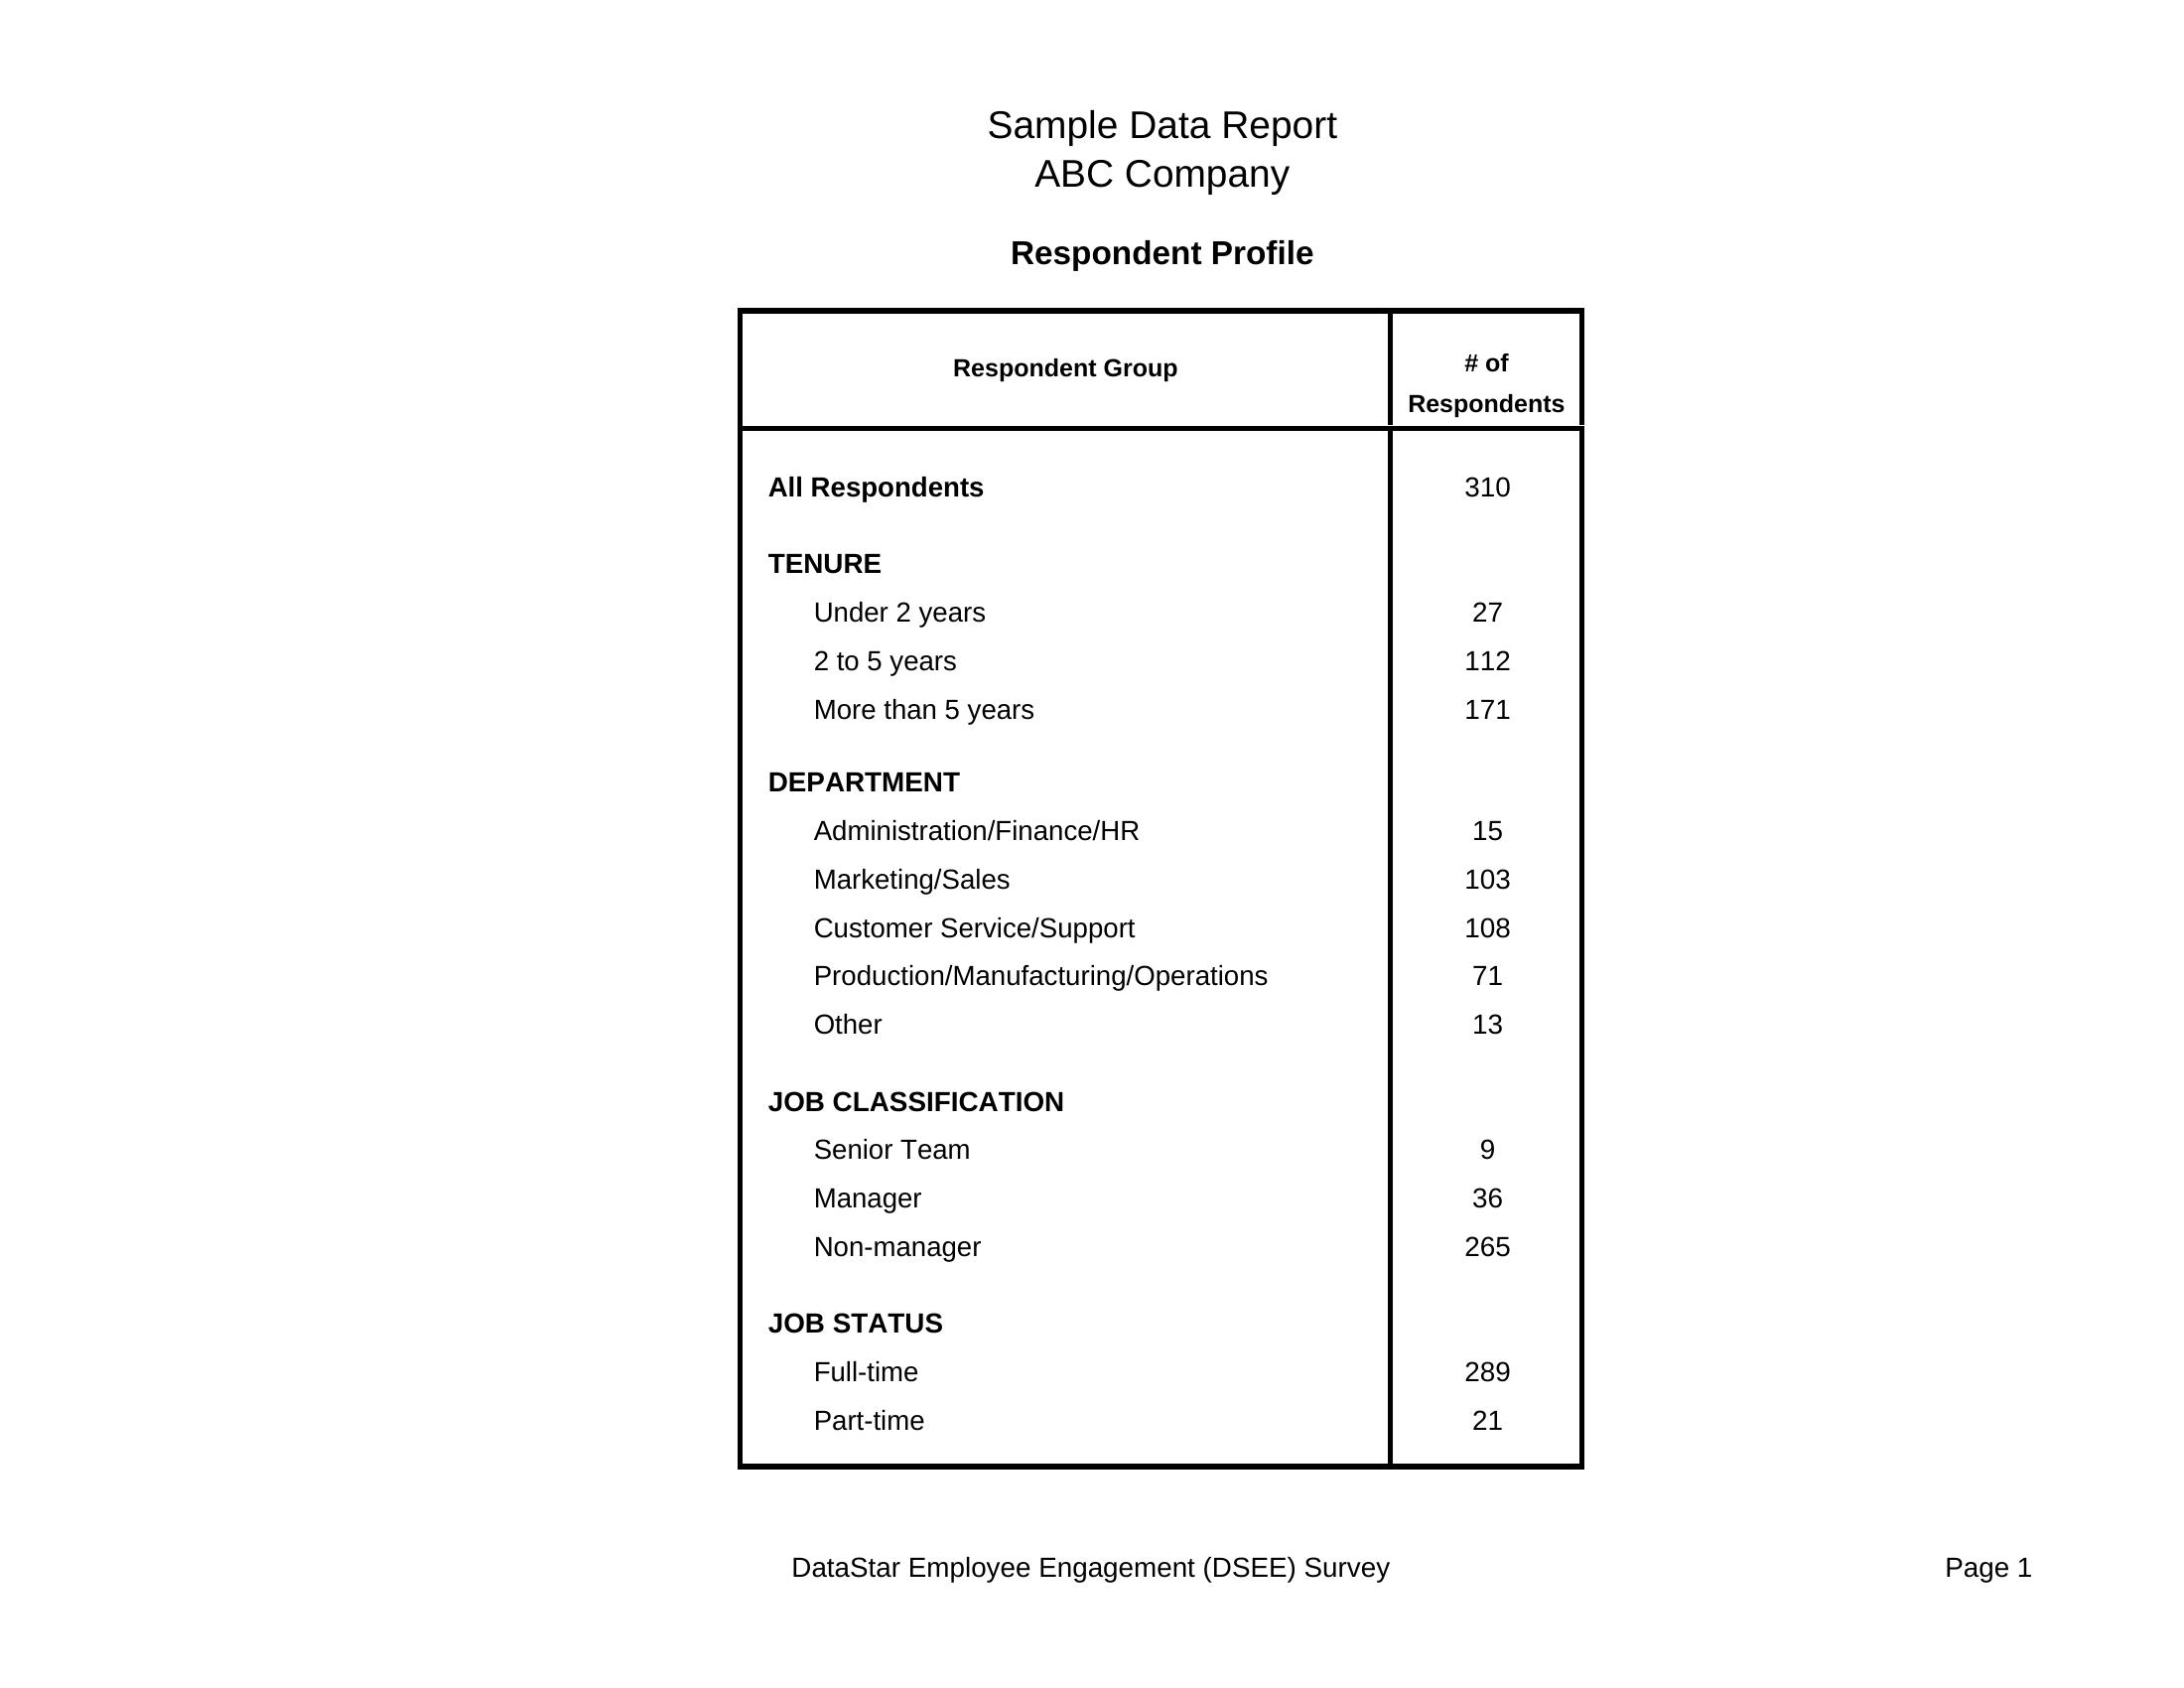table: (732, 301, 1592, 1484)
